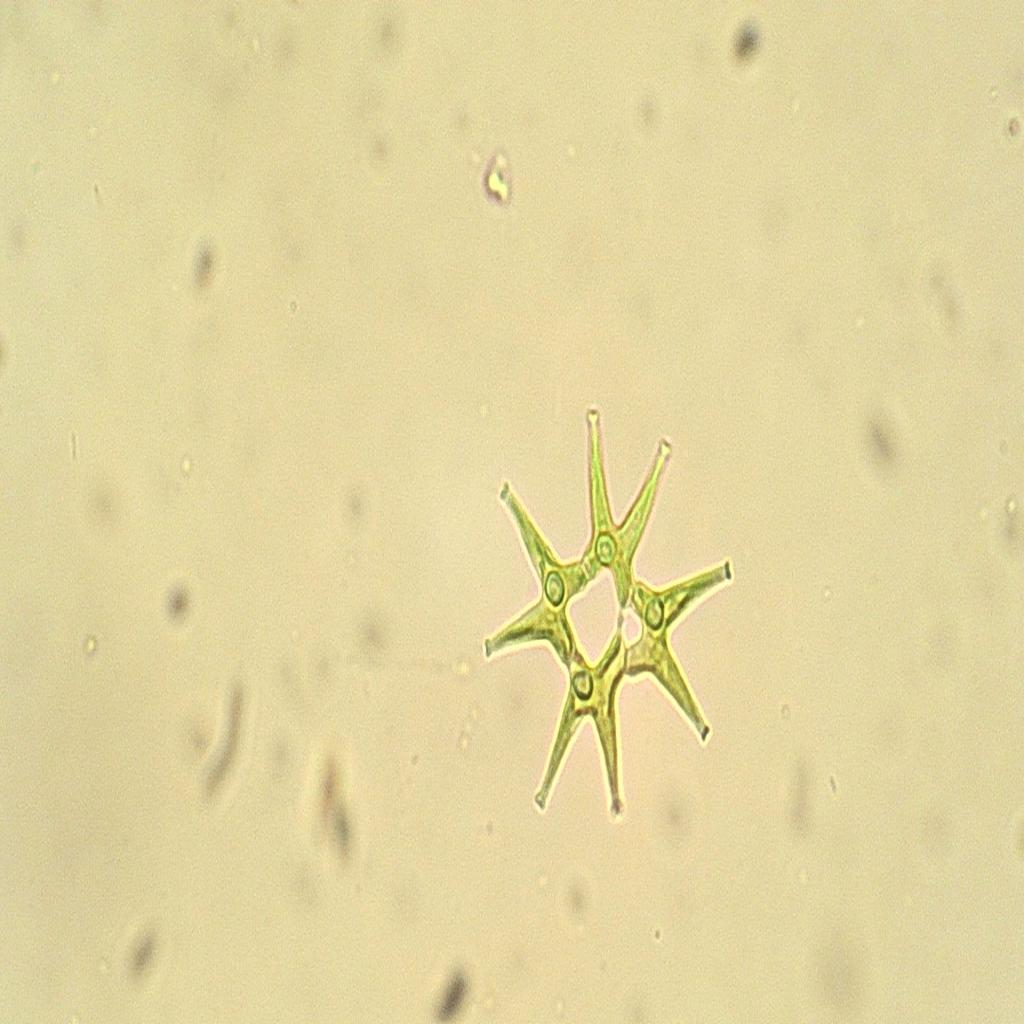Pediastrum_75FO: (474, 396, 750, 845)
